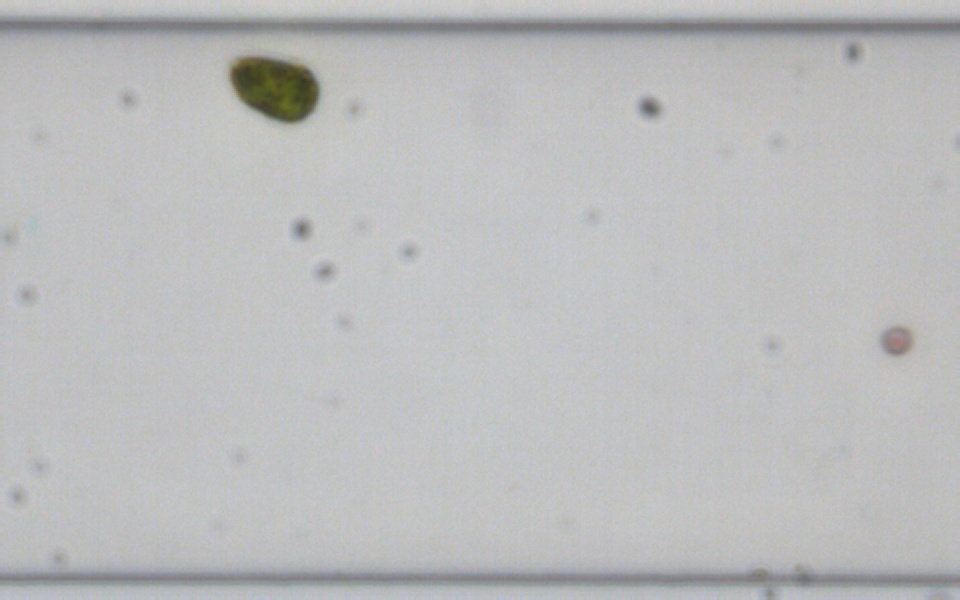Haematococcus: (224, 50, 319, 123)
Porphyridium: (880, 323, 911, 357)
